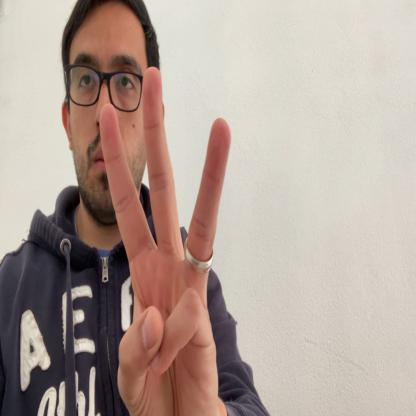W: (99, 68, 232, 415)
